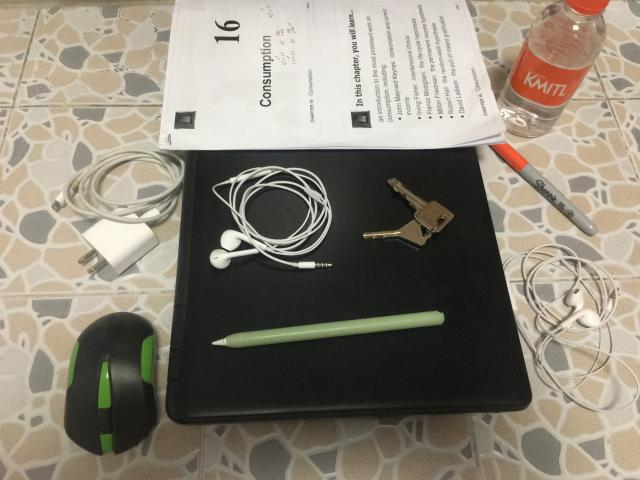Keys: (364, 179, 454, 245)
Mouse: (64, 312, 156, 455)
Pen: (491, 142, 598, 235)
bottle: (498, 0, 609, 138)
paper: (159, 0, 505, 150)
wire: (504, 244, 640, 412), (51, 148, 185, 274), (210, 166, 331, 269)
